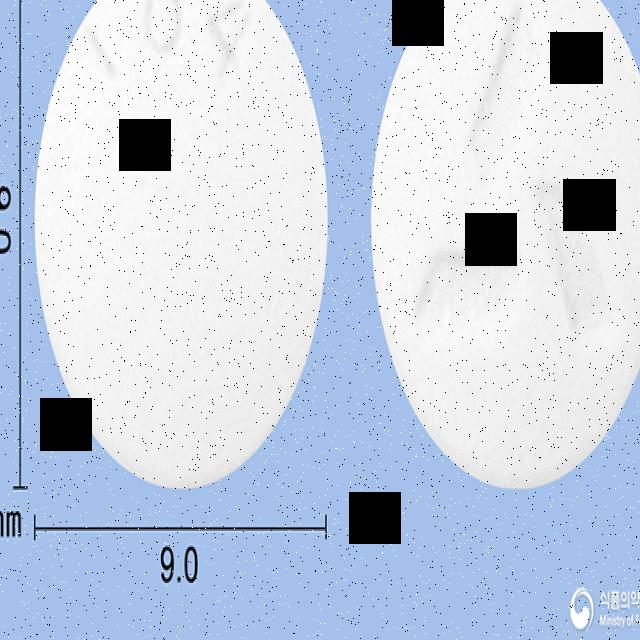Rulid Tab: (31, 0, 329, 484), (370, 0, 640, 490)
